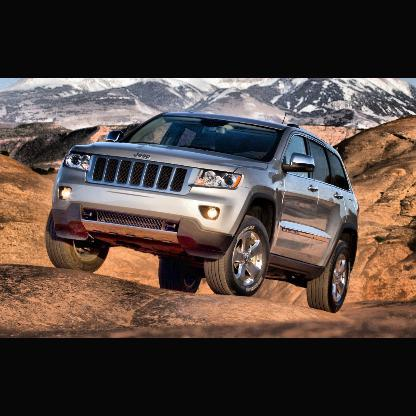Jeep Grand Cherokee SUV 2012: (46, 113, 360, 316)
